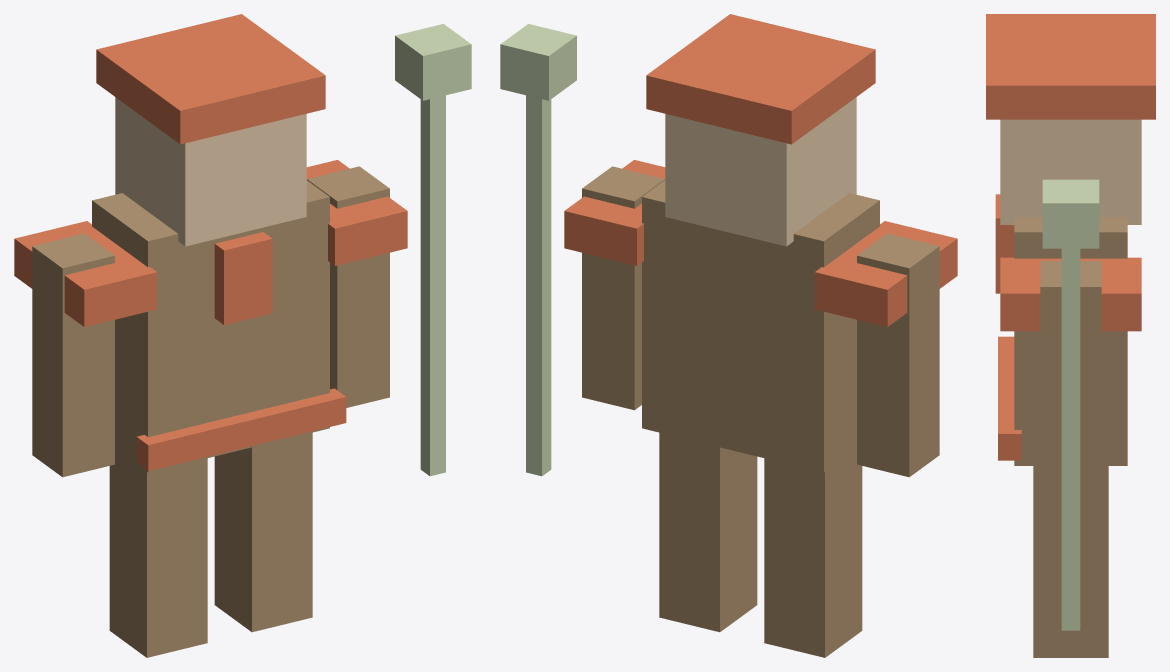
The model's file is 08_talia_rootborne_navigator_from_bonewind.glb.
3 renders of one model, left to right at view 1: azimuth 30°, elevation 25°; view 2: azimuth 150°, elevation 25°; view 3: azimuth 270°, elevation 25°, orthographic.
Parts seen in each view (by area): view 1: Talia Rootborne, Navigator from Bonewind; view 2: Talia Rootborne, Navigator from Bonewind; view 3: Talia Rootborne, Navigator from Bonewind.
Boxes of the visible parts, x1,y1,x2,y2 form: Talia Rootborne, Navigator from Bonewind: [14, 14, 471, 657]; Talia Rootborne, Navigator from Bonewind: [500, 14, 957, 657]; Talia Rootborne, Navigator from Bonewind: [986, 14, 1155, 657].
Bounding box in the file's own units: 1.1 × 1.44 × 0.3893.
